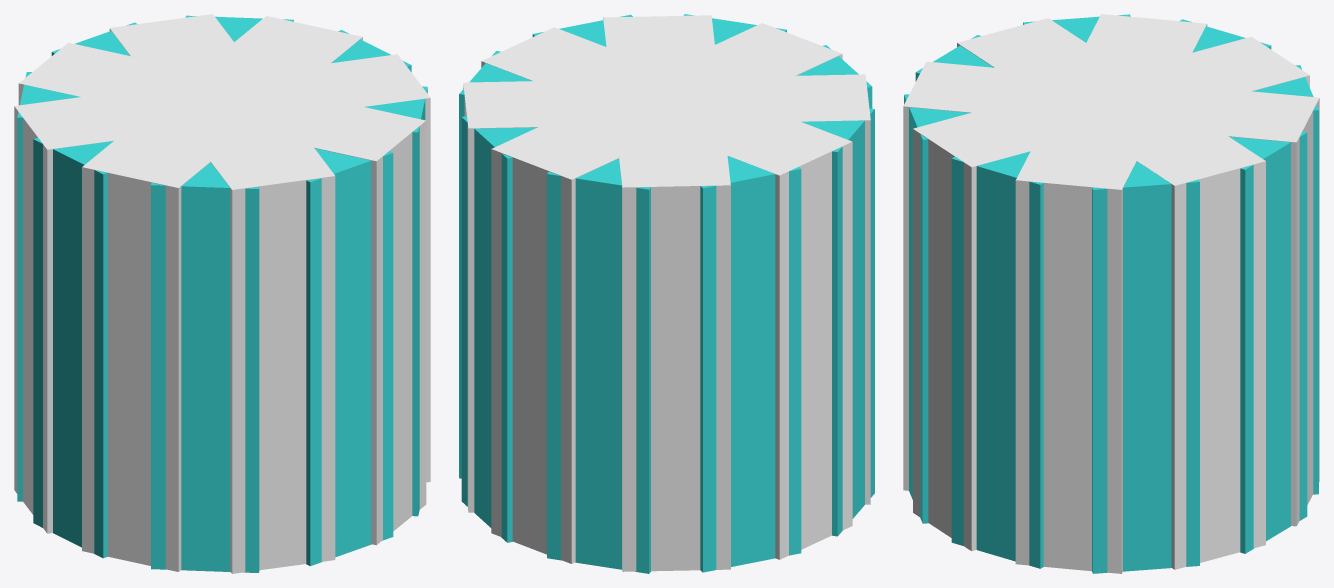
Rendered from bonbonBlue.dae.
The picture shows the model from 3 angles, left to right: view 1: azimuth 30°, elevation 25°; view 2: azimuth 150°, elevation 25°; view 3: azimuth 270°, elevation 25°; orthographic projection.
Parts seen in each view (by area): view 1: 0NOTE.006, 0NOTE, 0NOTE.007, 0NOTE.004, 0NOTE.001, 0NOTE.002, 0NOTE.003, 0NOTE.005; view 2: 0NOTE.004, 0NOTE, 0NOTE.002, 0NOTE.001, 0NOTE.005, 0NOTE.006, 0NOTE.007, 0NOTE.003; view 3: 0NOTE.002, 0NOTE.006, 0NOTE.004, 0NOTE.003, 0NOTE.005, 0NOTE, 0NOTE.007, 0NOTE.001.
Part boxes in pixels (<box>): 0NOTE.006: <box>82,16,362,571</box>; 0NOTE: <box>109,14,335,573</box>; 0NOTE.007: <box>151,15,293,572</box>; 0NOTE.004: <box>18,42,426,545</box>; 0NOTE.001: <box>51,22,393,566</box>; 0NOTE.002: <box>14,54,430,533</box>; 0NOTE.003: <box>33,30,411,558</box>; 0NOTE.005: <box>17,72,427,516</box>; 0NOTE.004: <box>603,15,730,571</box>; 0NOTE: <box>491,23,842,563</box>; 0NOTE.002: <box>481,27,852,559</box>; 0NOTE.001: <box>547,14,786,573</box>; 0NOTE.005: <box>532,14,801,572</box>; 0NOTE.006: <box>463,74,870,512</box>; 0NOTE.007: <box>461,45,872,542</box>; 0NOTE.003: <box>459,51,874,536</box>; 0NOTE.002: <box>1015,14,1207,573</box>; 0NOTE.006: <box>957,18,1265,569</box>; 0NOTE.004: <box>913,36,1309,551</box>; 0NOTE.003: <box>1023,14,1199,573</box>; 0NOTE.005: <box>951,19,1271,568</box>; 0NOTE: <box>903,61,1319,526</box>; 0NOTE.007: <box>915,35,1307,553</box>; 0NOTE.001: <box>904,65,1318,523</box>.
Size of the model in its own units: 0.8844 by 0.8844 by 0.901.
